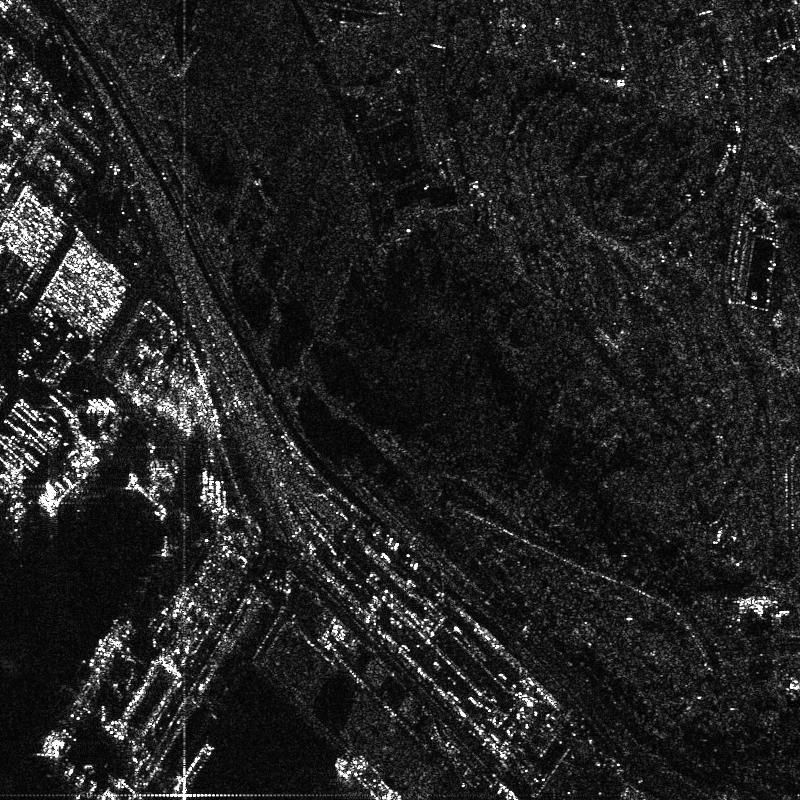ship: (40, 621, 131, 759), (38, 451, 101, 516), (172, 742, 214, 798), (350, 755, 402, 799), (127, 473, 167, 520)
